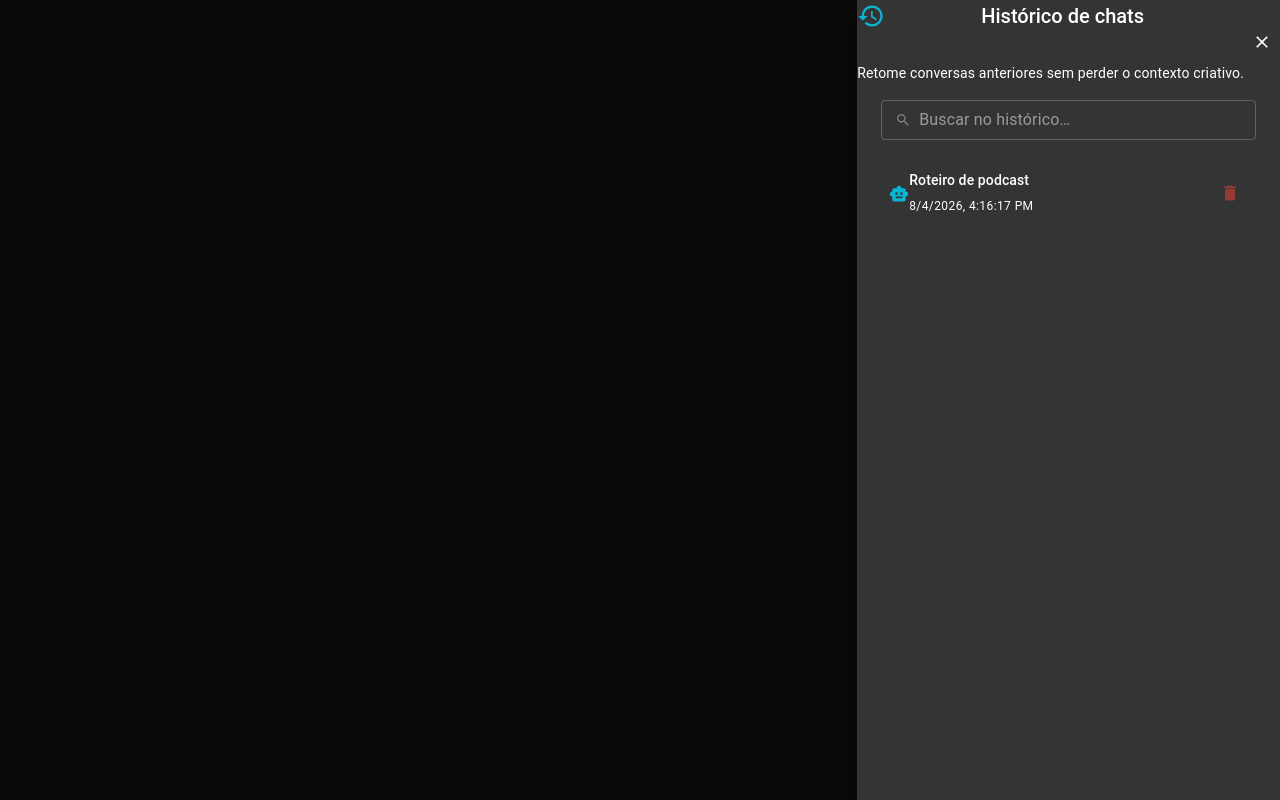
Test: AssistantHistoryPanel › mostra "Nenhum chat encontrado" quando filtro não retorna resultados
In the search field with placeholder "Buscar no histórico…": (1088, 120) [919,100,1256,140], type "xyz-inexistente"
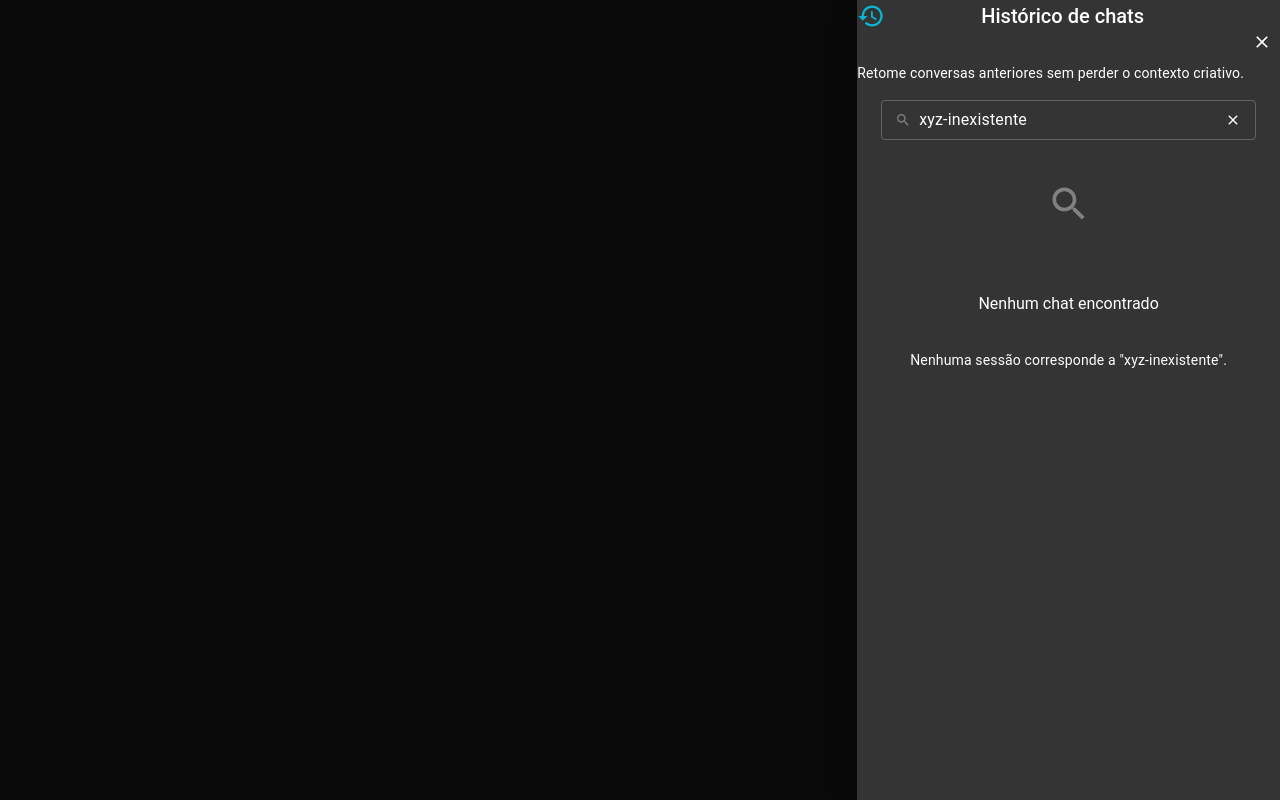
Result: the heading "Nenhum chat encontrado" is shown at [978,294,1159,313]
